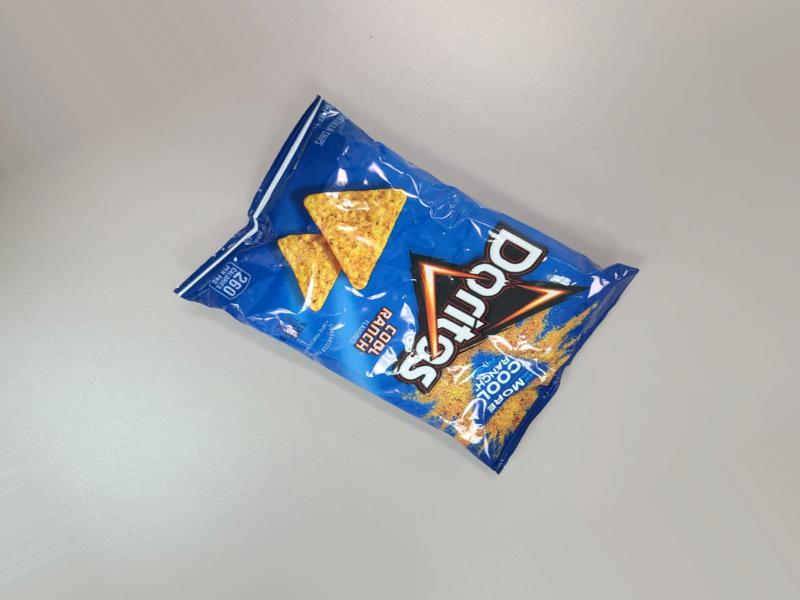doritos: (241, 135, 642, 456)
